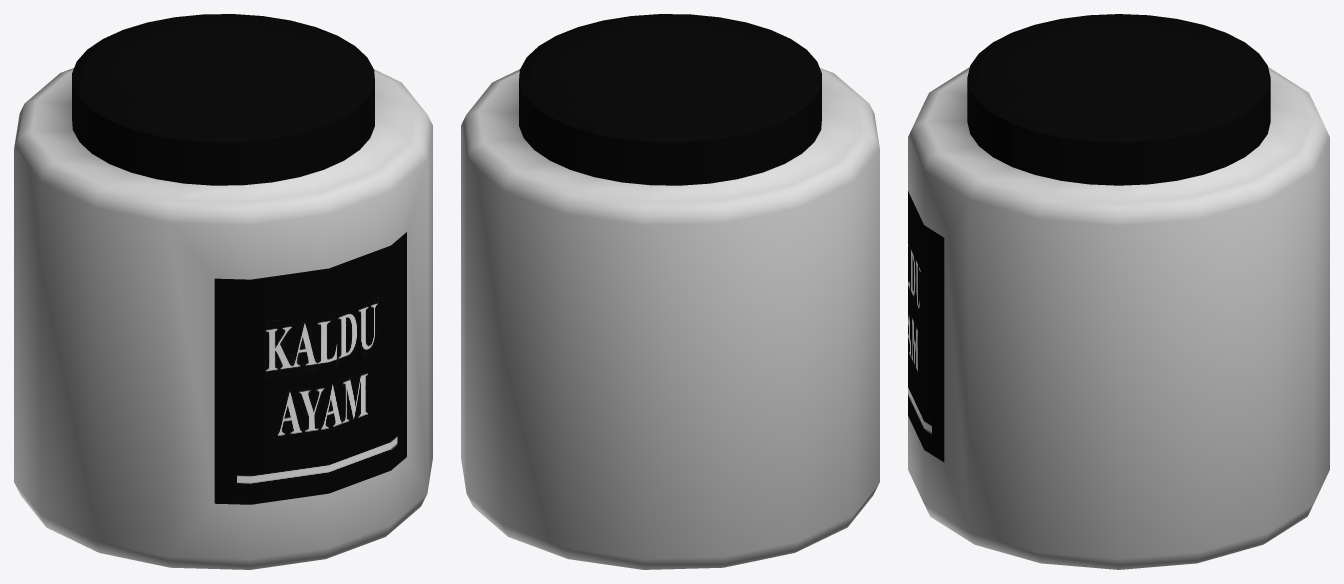
The model's file is toples.fbx.
3 views of the same model, side by side, from view 1: azimuth 30°, elevation 25°; view 2: azimuth 150°, elevation 25°; view 3: azimuth 270°, elevation 25° (orthographic).
Parts seen in each view (by area): view 1: toples, tutup toples; view 2: toples, tutup toples; view 3: toples, tutup toples.
Boxes of the visible parts, left/top/right/bottom form: toples: left=14, top=68, right=432, bottom=569; tutup toples: left=72, top=14, right=374, bottom=185; toples: left=461, top=68, right=879, bottom=569; tutup toples: left=519, top=14, right=821, bottom=185; toples: left=908, top=67, right=1329, bottom=569; tutup toples: left=967, top=14, right=1270, bottom=185.
Bounding box in the file's own units: 71.69 × 78.44 × 71.69.
Materials: 3 (1 with a texture image).
